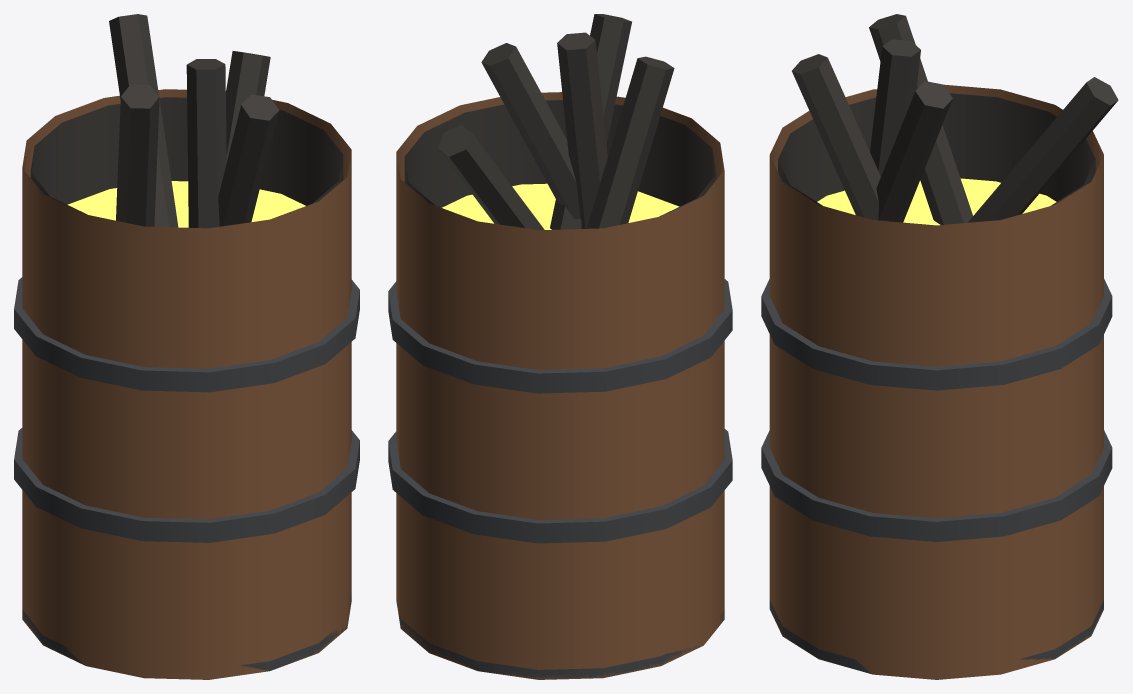
File: ZR_Barrel_Fire.fbx
3 renders of one model, left to right at view 1: azimuth 30°, elevation 25°; view 2: azimuth 150°, elevation 25°; view 3: azimuth 270°, elevation 25°, orthographic.
Parts seen in each view (by area): view 1: ZR_Barrel_Fire; view 2: ZR_Barrel_Fire; view 3: ZR_Barrel_Fire.
Part boxes in pixels (x1,y1,x2,y2): ZR_Barrel_Fire: (14,14,359,679); ZR_Barrel_Fire: (388,14,732,679); ZR_Barrel_Fire: (761,14,1118,679).
Bounding box in the file's own units: 0.63 × 1.12 × 0.6411.
